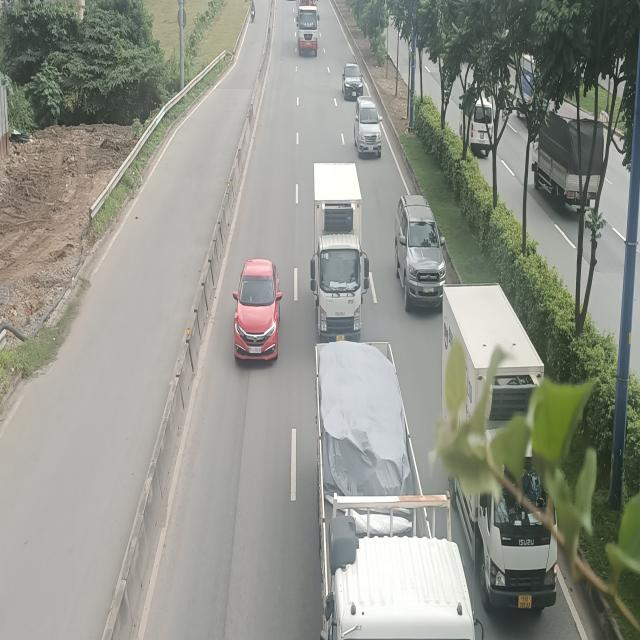car: (395, 192, 447, 308), (232, 256, 280, 365), (354, 99, 382, 159)
truck: (316, 335, 490, 640), (313, 162, 371, 346), (296, 1, 321, 58)
